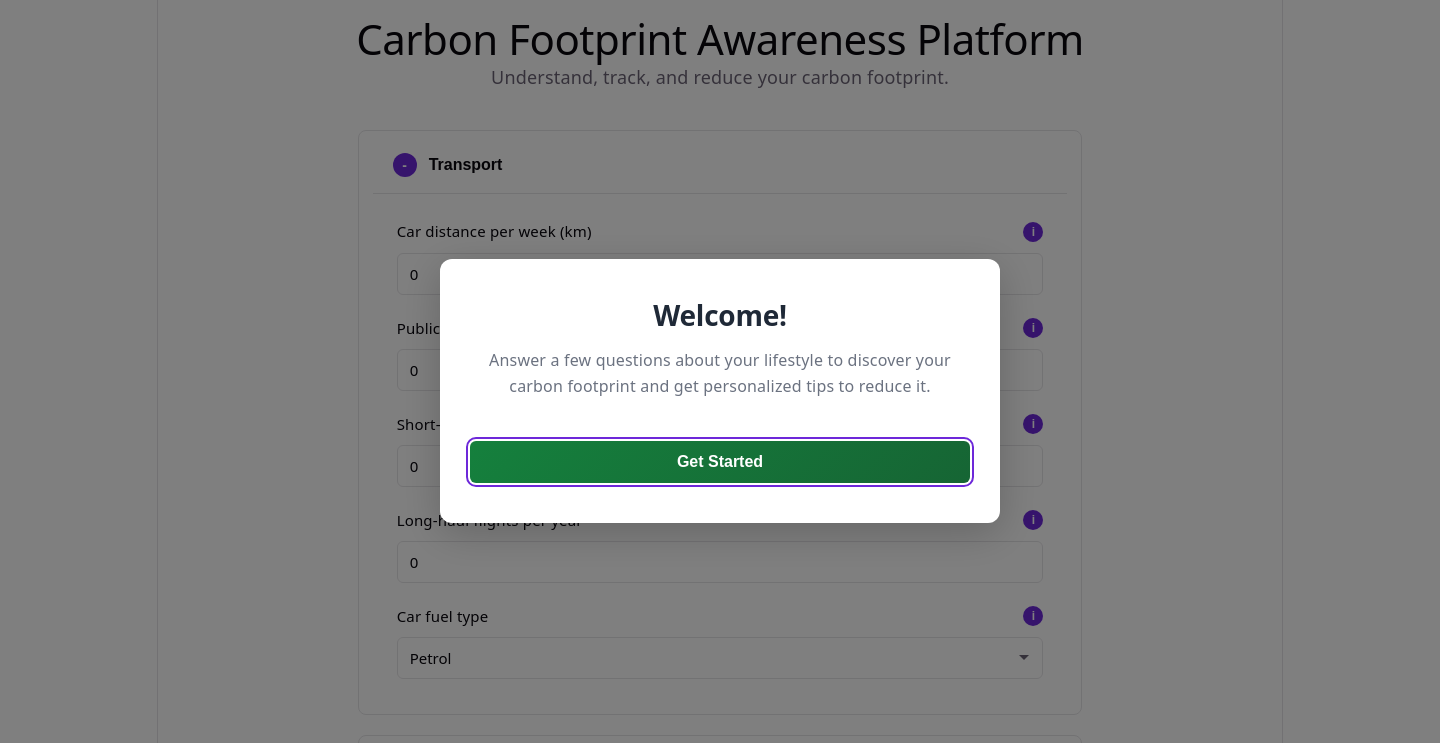
Test: App Integration Tests › should display goal setting section in results
Click the button "Get Started" at (720, 462), box x1=470 y1=441 x2=970 y2=483
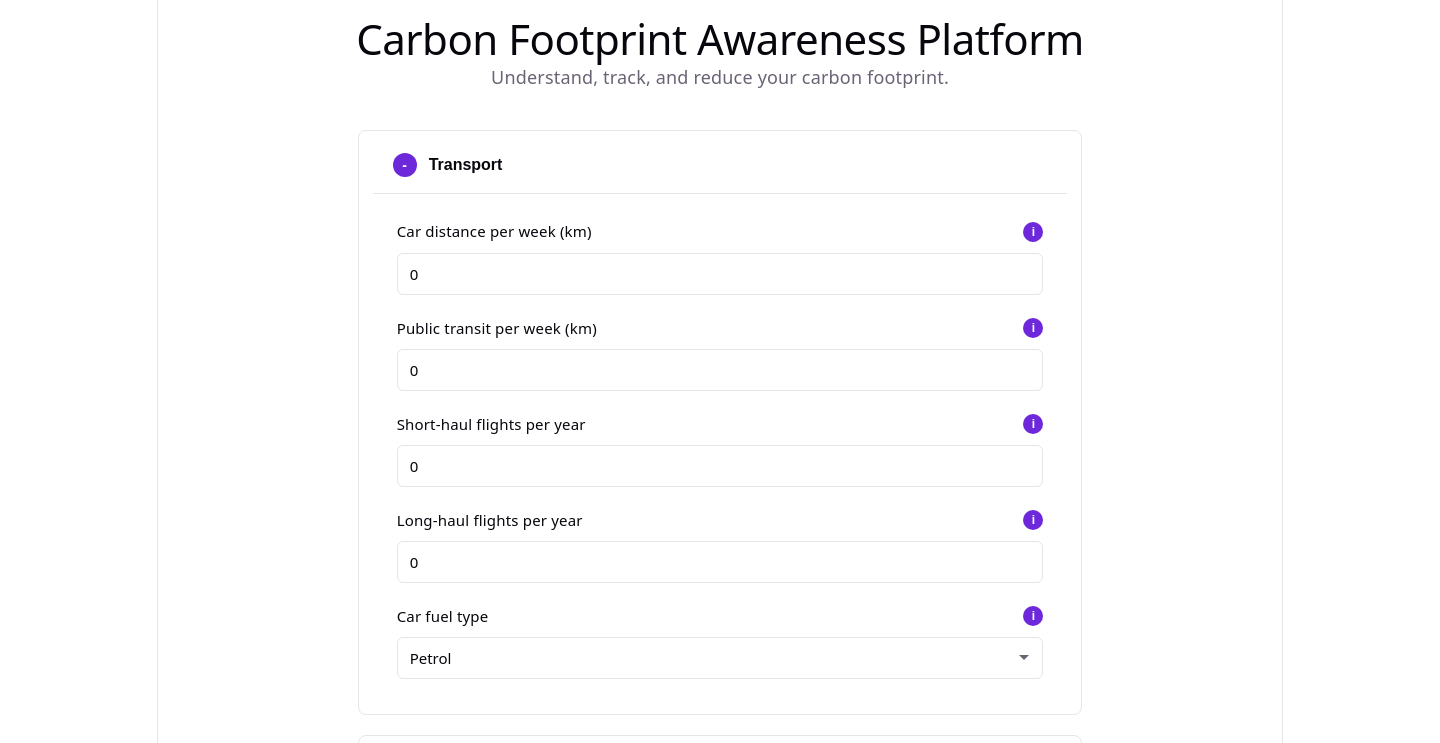
Replace the text in the number field labelled "Car distance per week (km)" with "50" at (720, 274), box x1=397 y1=253 x2=1043 y2=295
(page scrolled)
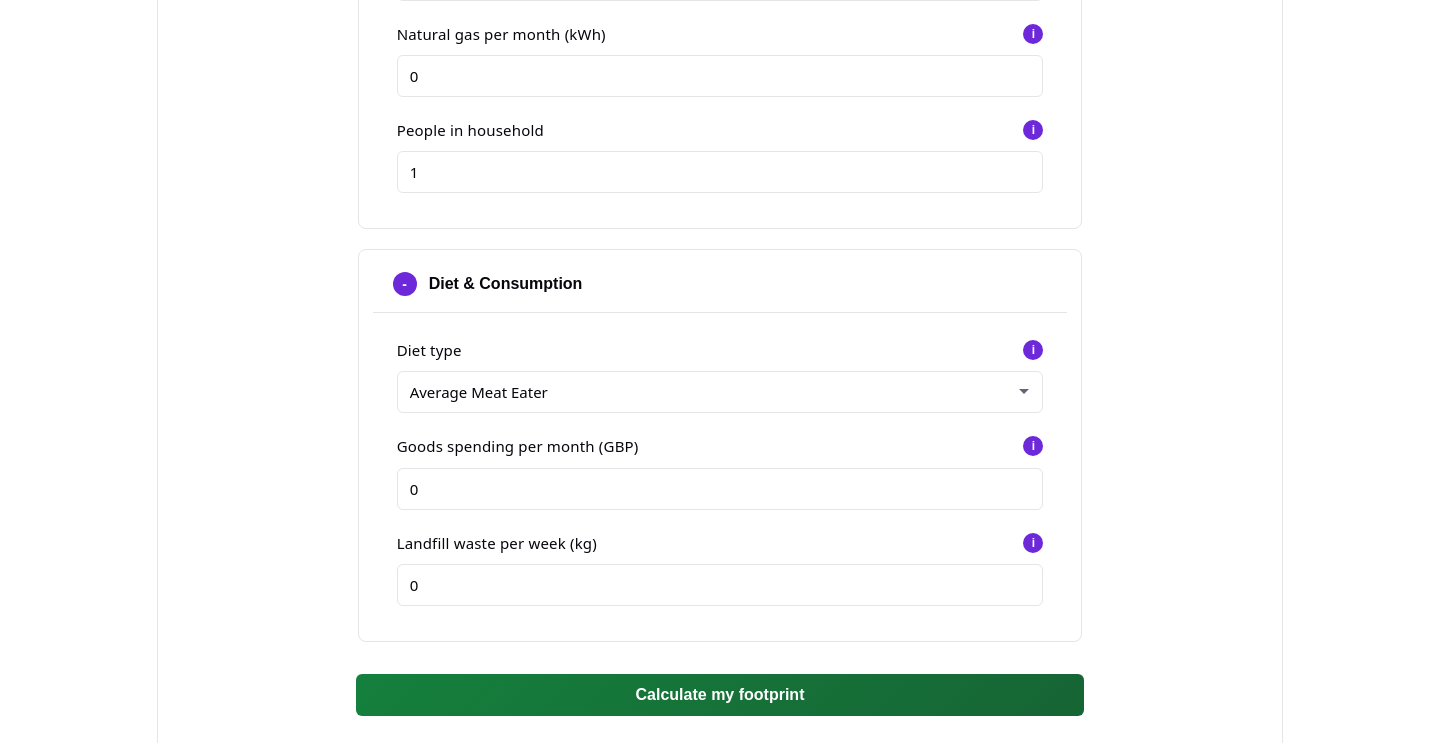
Click the button with aria-label "Calculate my carbon footprint" at (720, 695), box x1=356 y1=674 x2=1084 y2=716
(page scrolled)
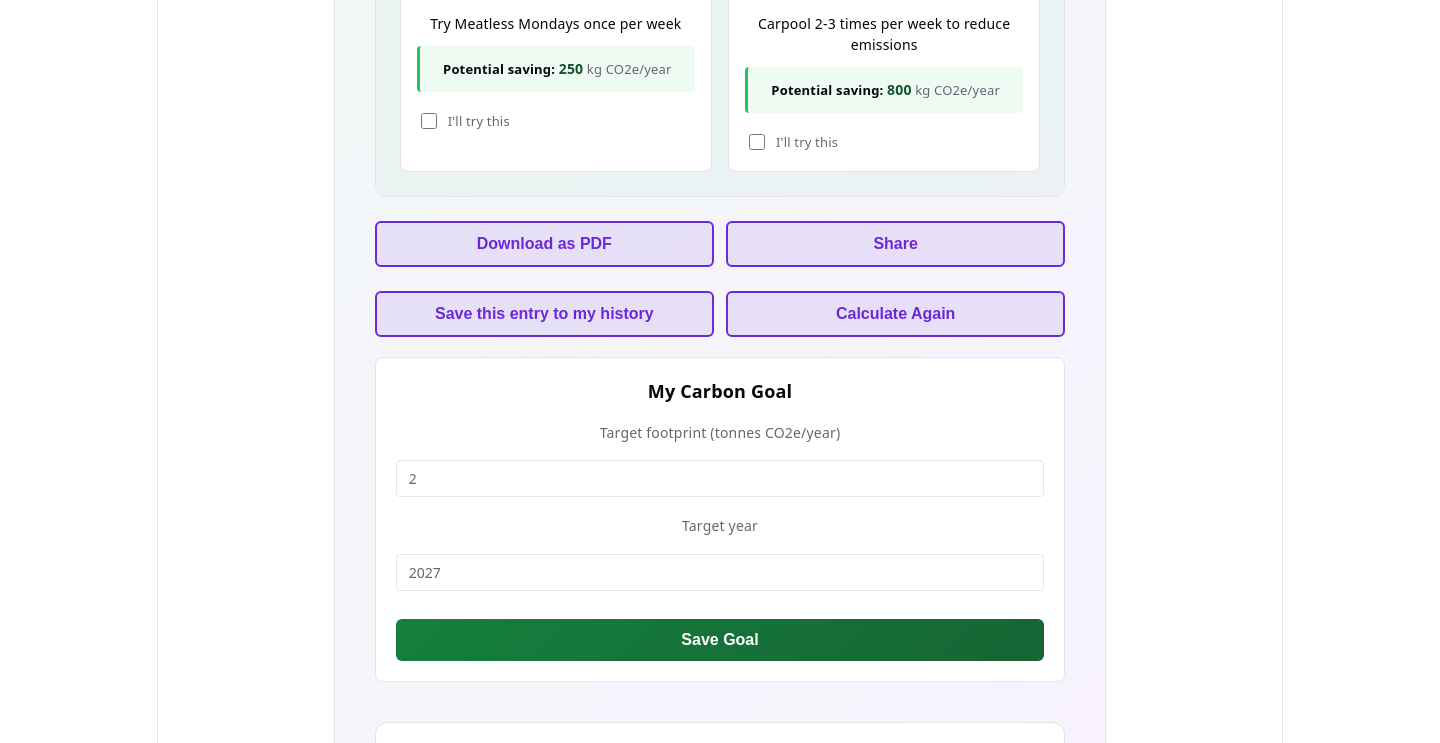
expect the heading "My Carbon Goal" is shown: met, box x1=648 y1=379 x2=792 y2=403
